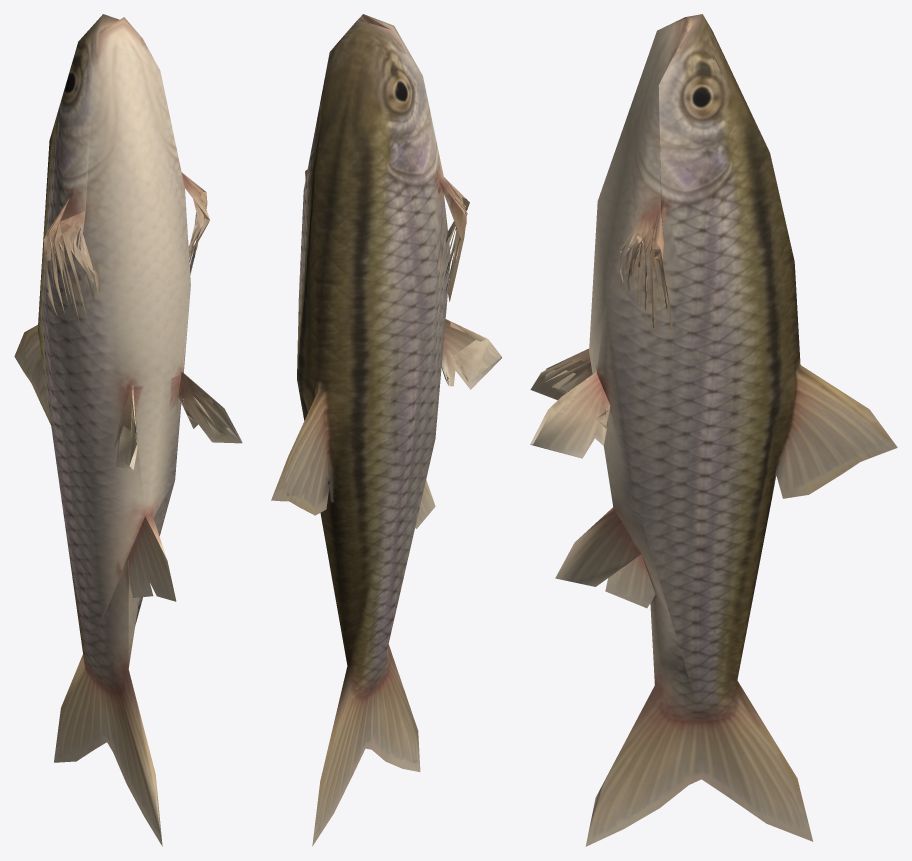
The model's file is common-shiner.glb.
The picture shows the model from 3 angles, left to right: view 1: azimuth 30°, elevation 25°; view 2: azimuth 150°, elevation 25°; view 3: azimuth 270°, elevation 25°; orthographic projection. The views are drawn at different scales.
Visible parts, largest first — view 1: FishCommonShiner; view 2: FishCommonShiner; view 3: FishCommonShiner.
Part boxes in pixels (bbox=[...]): FishCommonShiner: bbox=[14, 14, 242, 846]; FishCommonShiner: bbox=[271, 14, 501, 846]; FishCommonShiner: bbox=[530, 14, 897, 846].
Size of the model in its own units: 0.1332 by 0.6221 by 0.2495.
Materials: 1 (1 with a texture image).
